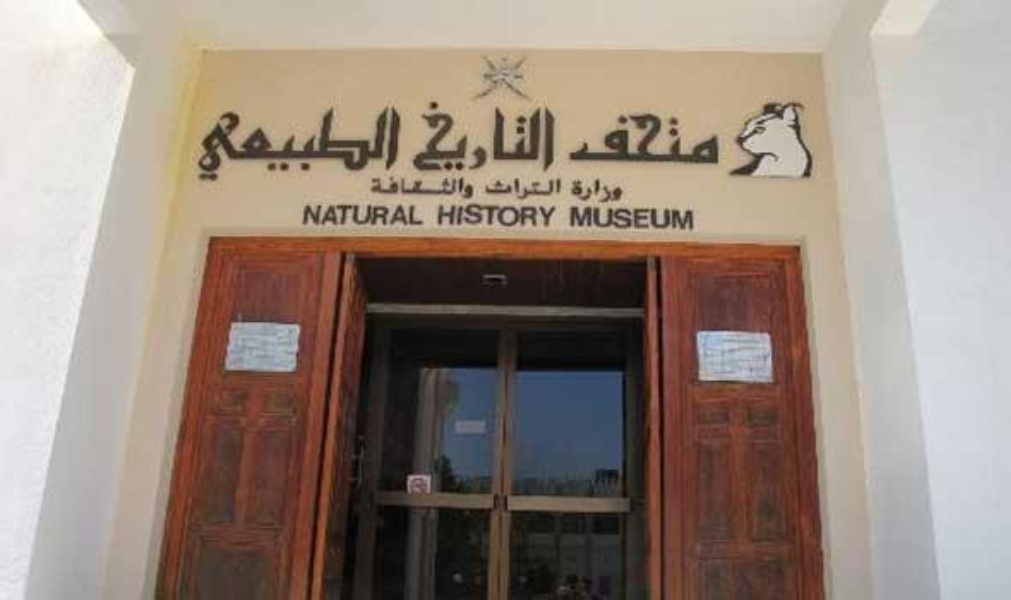text: (225, 102, 240, 184), (241, 102, 256, 184), (257, 102, 272, 184), (273, 102, 288, 184), (289, 102, 304, 184), (305, 102, 320, 184), (321, 102, 336, 184), (337, 102, 352, 184), (353, 102, 368, 184), (369, 102, 384, 184), (385, 102, 400, 184), (433, 98, 448, 175), (449, 98, 464, 175), (465, 98, 480, 175), (481, 98, 496, 175), (497, 98, 512, 175), (513, 98, 528, 175), (529, 98, 544, 175), (545, 98, 559, 175), (593, 107, 608, 169), (609, 107, 624, 169), (625, 107, 640, 169), (641, 107, 656, 169), (657, 107, 672, 169), (673, 107, 688, 169), (689, 107, 704, 169), (705, 107, 720, 169), (422, 98, 432, 175), (580, 107, 592, 169), (215, 102, 224, 184), (577, 174, 592, 205), (593, 174, 608, 205), (609, 174, 624, 205), (369, 172, 384, 203), (385, 172, 400, 203), (401, 172, 416, 203), (417, 172, 432, 203), (433, 172, 448, 203), (449, 172, 464, 203), (449, 203, 464, 230), (465, 203, 480, 230), (481, 203, 496, 230), (497, 203, 512, 230), (513, 203, 528, 230), (529, 203, 544, 230), (577, 205, 592, 232), (593, 205, 608, 232), (609, 205, 624, 232), (625, 205, 640, 232), (641, 205, 656, 232), (657, 205, 672, 232), (673, 205, 688, 232), (305, 203, 320, 229), (321, 203, 336, 229), (337, 203, 352, 229), (353, 203, 368, 229), (369, 203, 384, 229), (385, 203, 400, 229), (401, 203, 416, 229), (497, 177, 512, 201), (513, 177, 528, 201), (529, 177, 544, 201), (545, 177, 560, 201), (401, 102, 405, 184), (465, 172, 475, 203), (437, 203, 448, 230), (545, 203, 556, 230), (484, 177, 496, 201), (568, 174, 576, 205), (568, 205, 576, 232), (417, 203, 425, 229), (721, 107, 724, 169), (689, 205, 694, 232), (300, 203, 304, 229), (561, 177, 563, 201), (625, 174, 626, 205)
